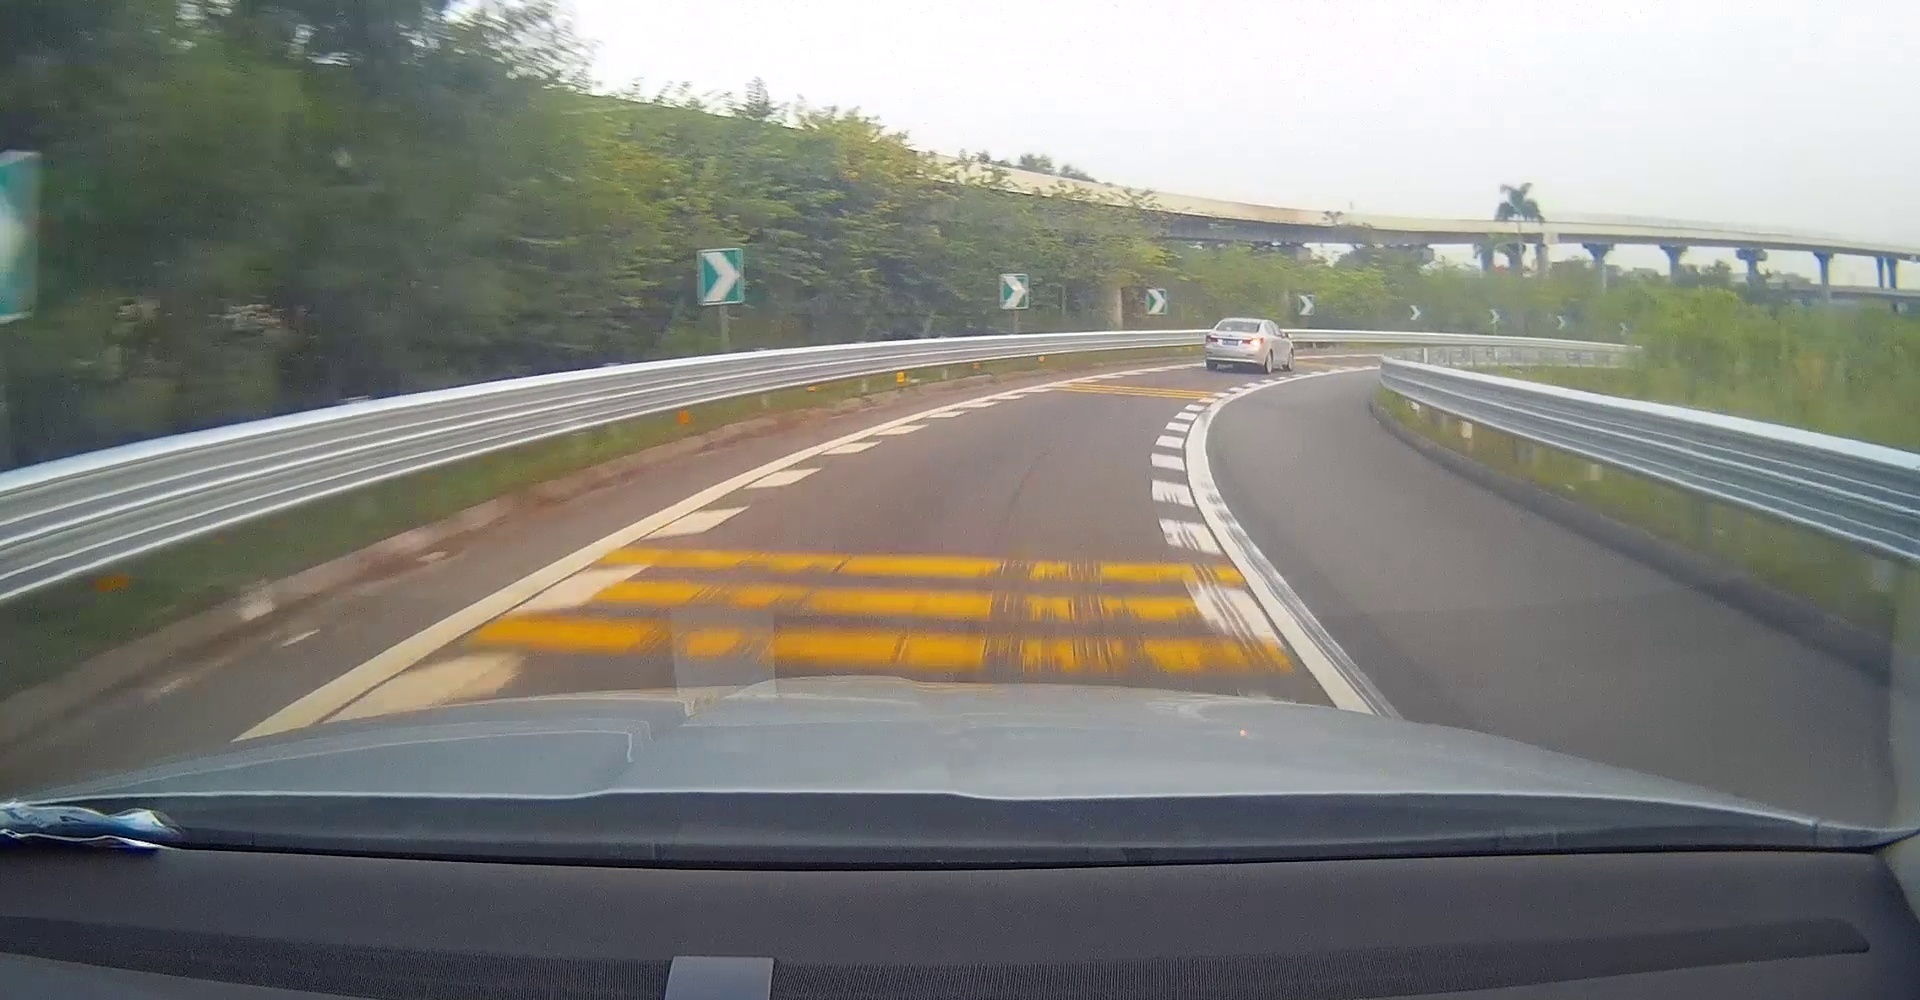L_light: (1205, 335, 1219, 343)
R_light: (1242, 338, 1263, 345)
T_light: (1233, 321, 1244, 325)
day-right: (1204, 317, 1266, 376)
